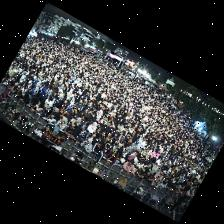person: (92, 142, 103, 167), (41, 95, 52, 115), (105, 148, 117, 164), (52, 94, 62, 112), (64, 123, 76, 138), (44, 112, 59, 124), (122, 159, 134, 173), (79, 138, 91, 152), (60, 107, 70, 123), (54, 117, 66, 130), (134, 167, 147, 179), (119, 146, 130, 159), (58, 99, 68, 113), (104, 139, 114, 153), (86, 112, 96, 126), (86, 122, 96, 135), (29, 102, 42, 112), (73, 118, 80, 136), (75, 132, 86, 143), (27, 83, 33, 102), (127, 152, 138, 162), (86, 133, 96, 144), (95, 132, 106, 142), (134, 159, 143, 171), (39, 82, 46, 97), (32, 82, 39, 97), (81, 107, 89, 120), (158, 178, 168, 188), (19, 92, 28, 103), (165, 182, 176, 191), (138, 155, 149, 164), (110, 142, 121, 151), (150, 148, 159, 159), (153, 171, 165, 179), (129, 141, 137, 153), (150, 178, 160, 187), (114, 158, 124, 167), (149, 162, 158, 172), (5, 78, 13, 89), (10, 83, 18, 94), (140, 147, 149, 156), (184, 189, 193, 197), (163, 171, 173, 178), (95, 110, 102, 120), (21, 83, 26, 96), (78, 125, 85, 134), (174, 185, 180, 195), (38, 138, 46, 145), (170, 176, 179, 182), (142, 164, 151, 170), (143, 171, 149, 179), (162, 175, 172, 179), (1, 79, 9, 84), (80, 116, 84, 125)
